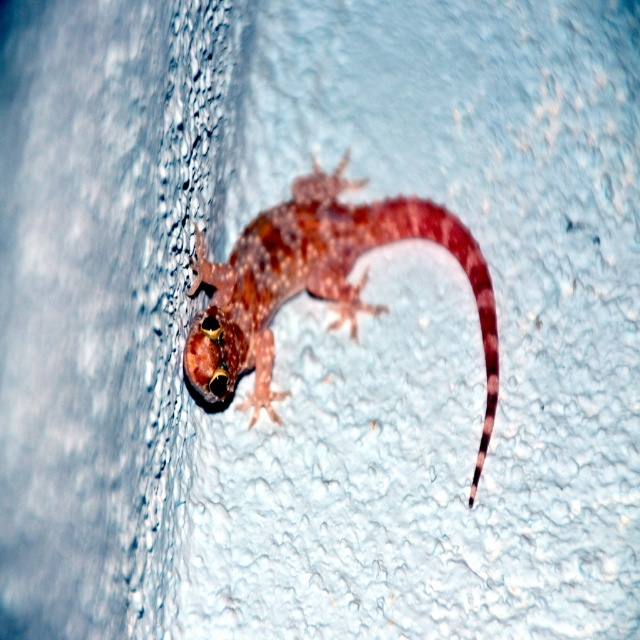Lizard: (183, 147, 498, 509)
